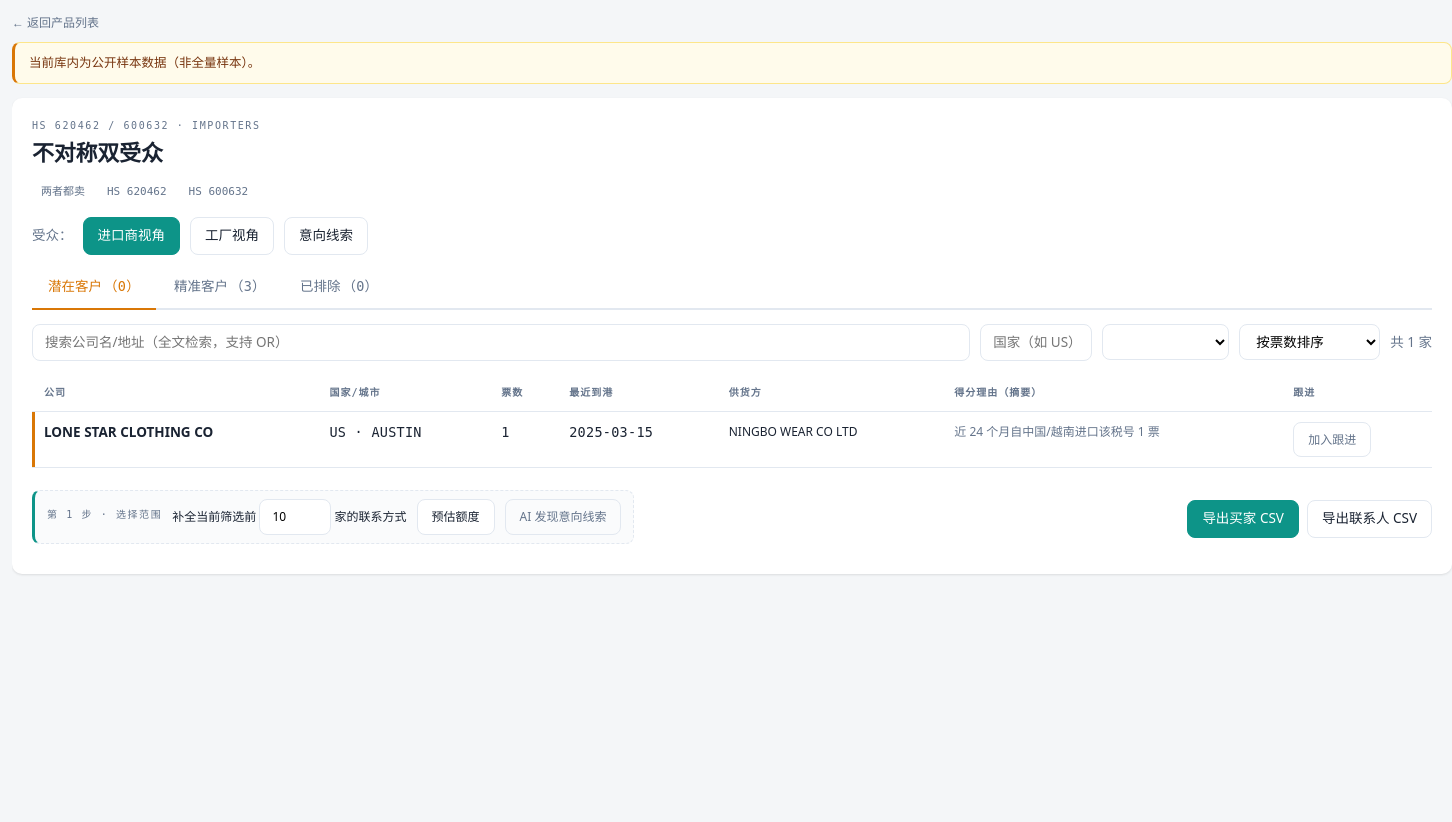
Test: 产品详情页（用户可见结果） › both 产品某受众无得分时缺键不回退总计数，页签为 0 且显示空指引（复现 F1）
Expected: the heading "不对称双受众" is shown, x1=32 y1=137 x2=163 y2=167
Expected: the tab with test id "tab-precise" shows "3", x1=158 y1=267 x2=282 y2=310
Note: 切到工厂视角：计数必须是 0（缺键 → 空对象），不能串成 importer 的 3
Click the button "工厂视角" at (232, 236), box x1=190 y1=217 x2=274 y2=255
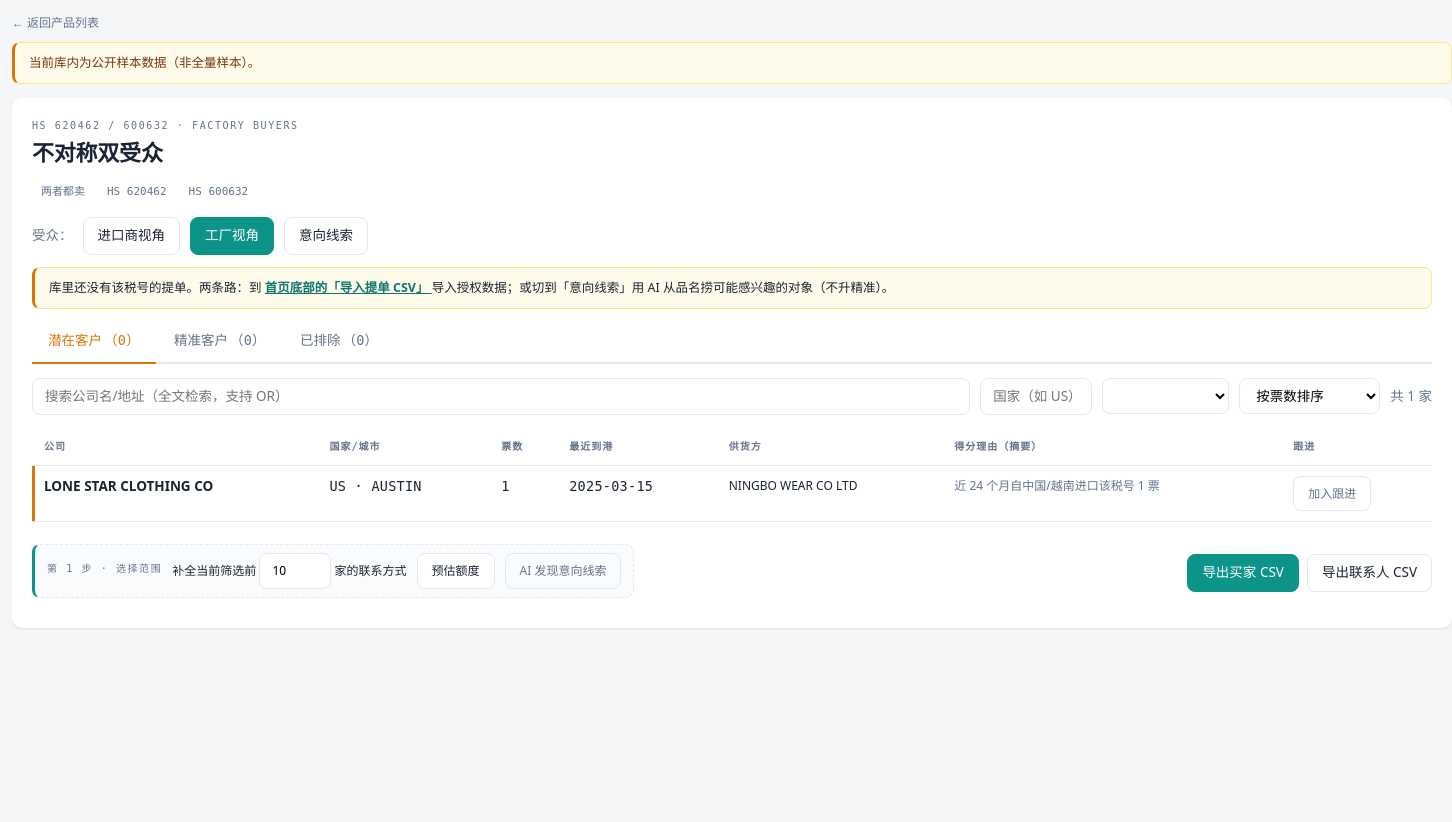
Expected: the tab with test id "tab-potential" shows "0", x1=32 y1=321 x2=156 y2=364
Now the tab with test id "tab-precise" shows "0", box x1=158 y1=321 x2=282 y2=364
Now the element with test id "no-bills-hint" is shown, box x1=32 y1=267 x2=1432 y2=309
